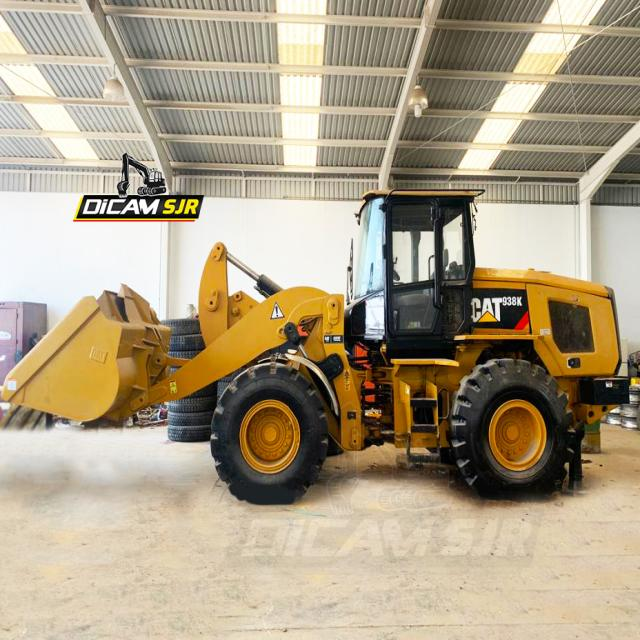buldozerpayloadergrader: (4, 176, 630, 509)
